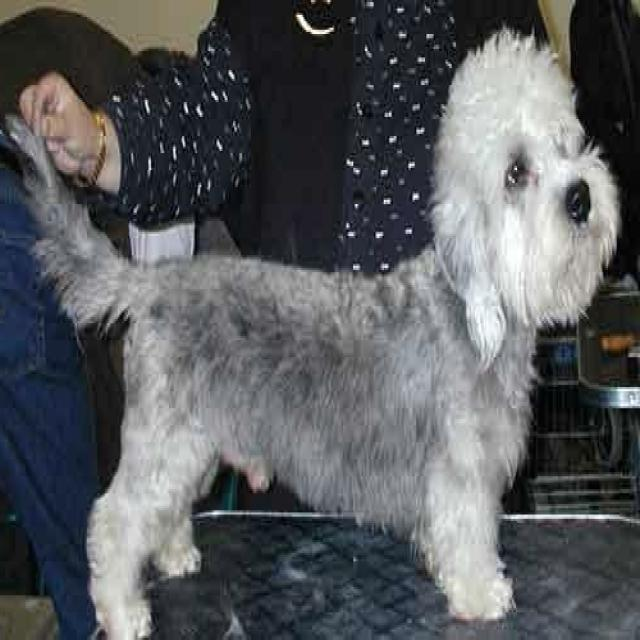dandie_dinmont: (9, 30, 622, 638)
